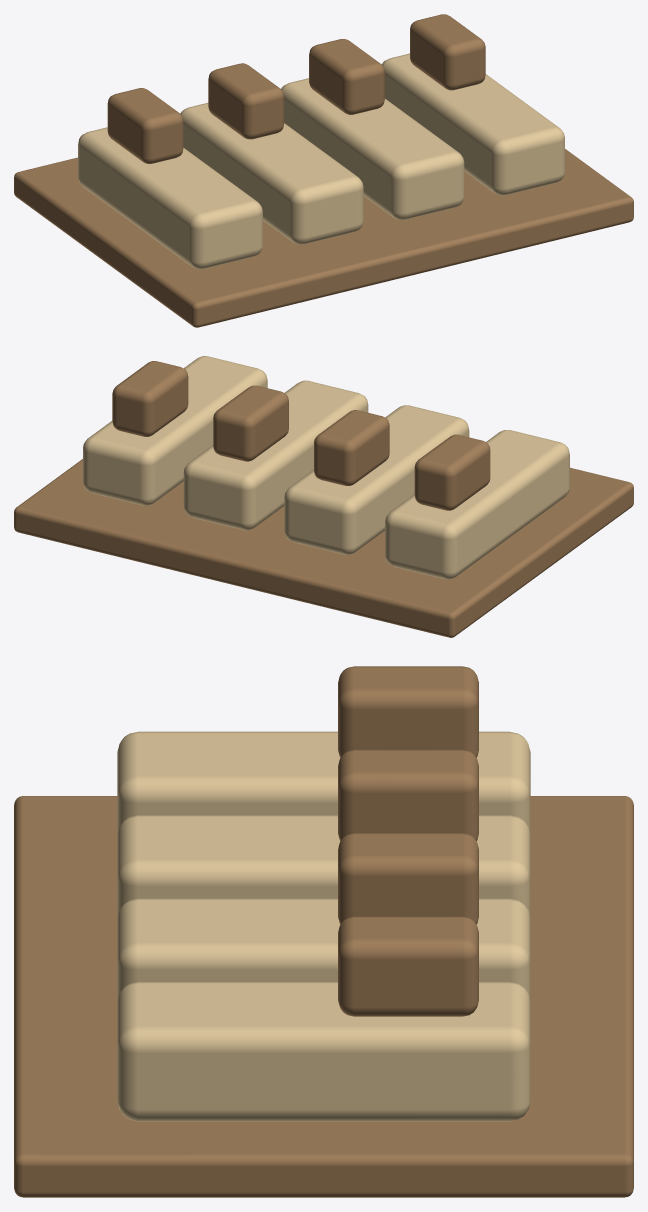
File: replacement-wooden-gear-tooth-set.glb
The picture shows the model from 3 angles, top to bottom: view 1: azimuth 30°, elevation 25°; view 2: azimuth 150°, elevation 25°; view 3: azimuth 270°, elevation 25°; orthographic projection. The views are drawn at different scales.
Visible parts, largest first — view 1: replacement-wooden-gear-tooth-set; view 2: replacement-wooden-gear-tooth-set; view 3: replacement-wooden-gear-tooth-set.
Part boxes in pixels (x1,y1,x2,y2): replacement-wooden-gear-tooth-set: (14, 14, 633, 327); replacement-wooden-gear-tooth-set: (14, 356, 633, 637); replacement-wooden-gear-tooth-set: (14, 666, 633, 1197).
Size of the model in its own units: 0.46 by 0.125 by 0.33.
